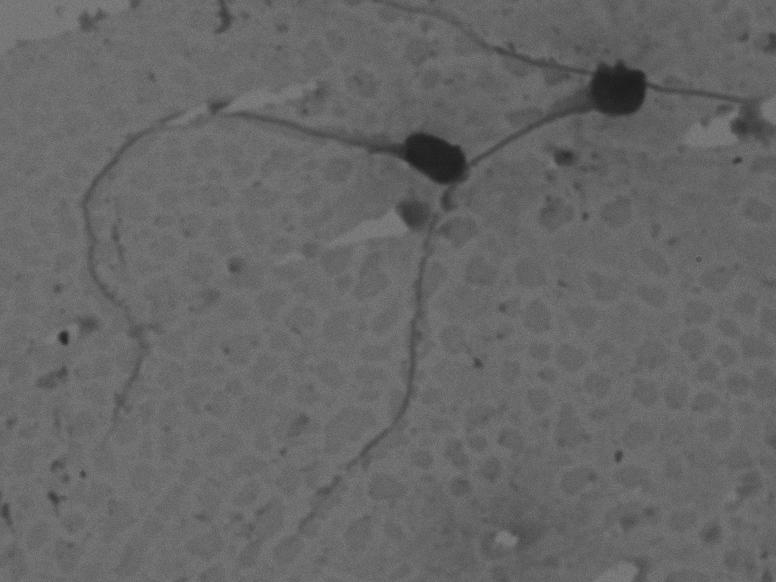Abnormal: (269, 38, 670, 547), (61, 81, 477, 442)
